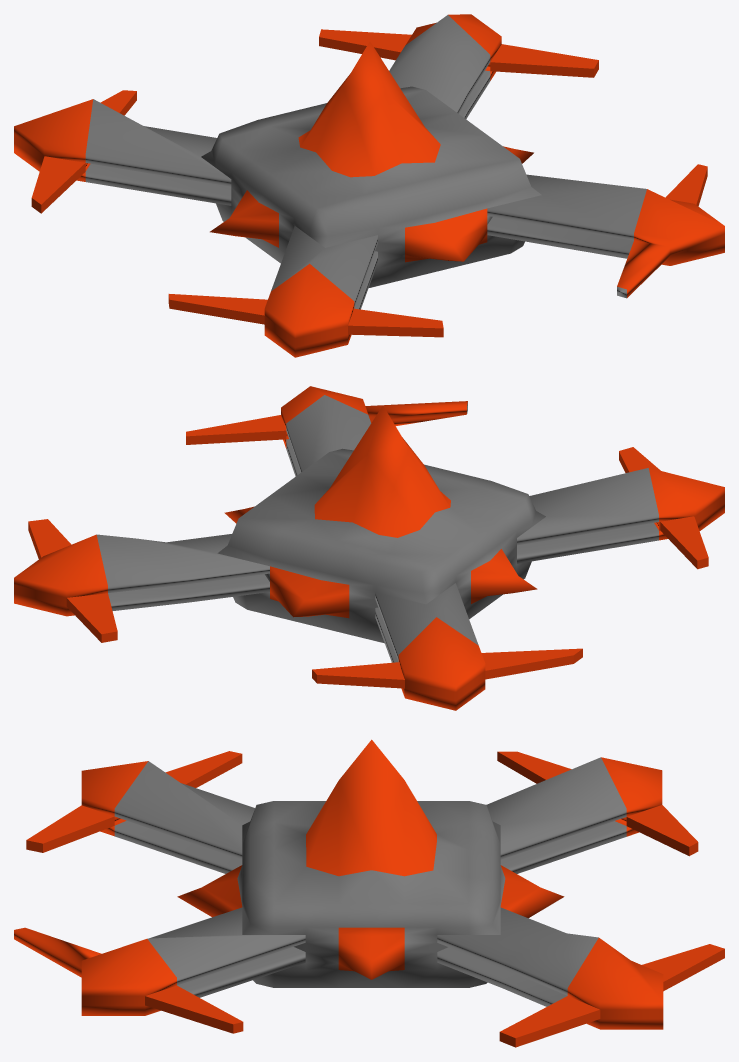
File: MS_EnemyDrone.fbx
3 renders of one model, top to bottom at view 1: azimuth 30°, elevation 25°; view 2: azimuth 150°, elevation 25°; view 3: azimuth 270°, elevation 25°, orthographic. The views are drawn at different scales.
Visible parts, largest first — view 1: pCube1; view 2: pCube1; view 3: pCube1.
Part boxes in pixels (x1,y1,x2,y2): pCube1: (14, 14, 724, 357); pCube1: (14, 386, 724, 710); pCube1: (14, 739, 724, 1047).
Size of the model in its own units: 21.01 by 8.56 by 21.98.
